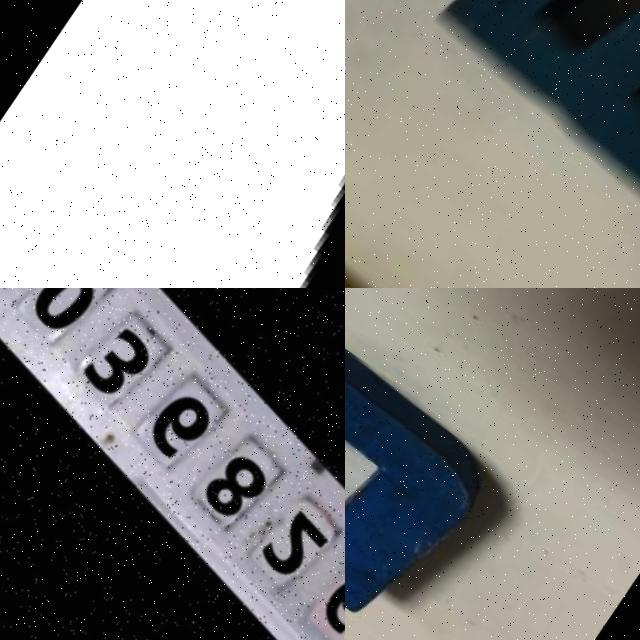0: (0, 288, 117, 361)
1: (32, 0, 345, 288)
2: (225, 486, 343, 607)
3: (48, 300, 172, 425)
6: (112, 364, 231, 485), (283, 547, 345, 640)
8: (166, 425, 287, 547)
J: (345, 301, 511, 640)
M: (427, 0, 640, 257)
